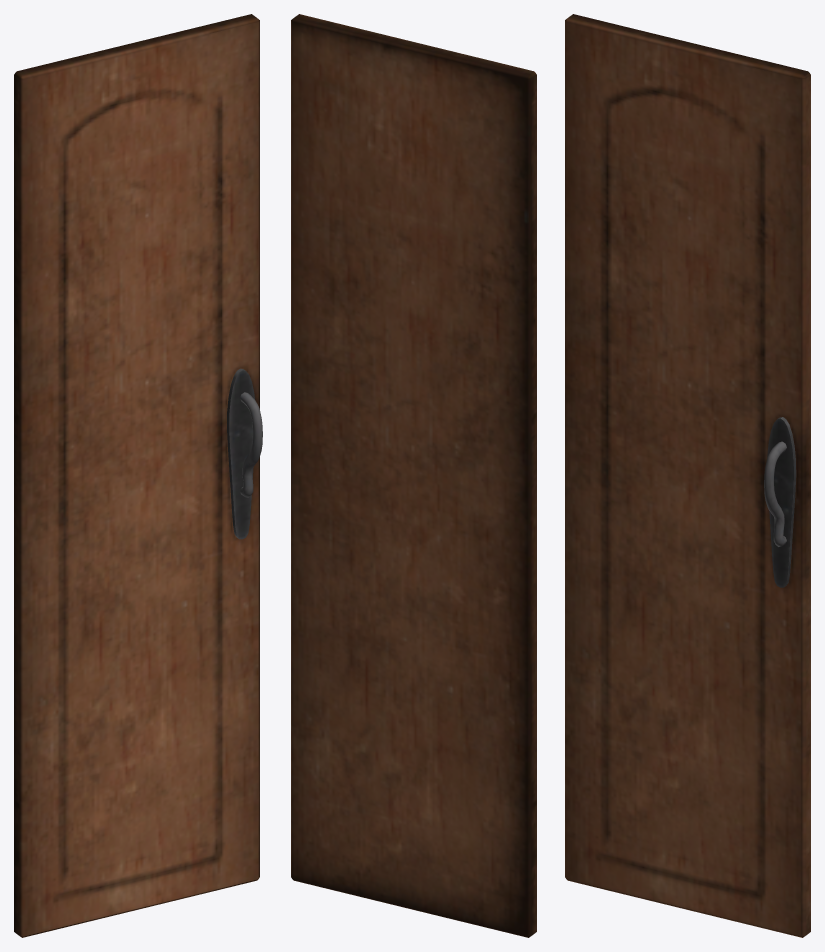
Rendered from Wardrobe_Left.fbx.
3 views of the same model, side by side, from view 1: azimuth 30°, elevation 25°; view 2: azimuth 150°, elevation 25°; view 3: azimuth 330°, elevation 25° (orthographic).
Visible parts, largest first — view 1: WardrobeCoverLeft_LOD0; view 2: WardrobeCoverLeft_LOD0; view 3: WardrobeCoverLeft_LOD0.
Part boxes in pixels (bbox=[...]): WardrobeCoverLeft_LOD0: bbox=[14, 14, 262, 937]; WardrobeCoverLeft_LOD0: bbox=[291, 14, 536, 937]; WardrobeCoverLeft_LOD0: bbox=[565, 14, 810, 937].
Size of the model in its own units: 18.18 by 62.37 by 3.5.
